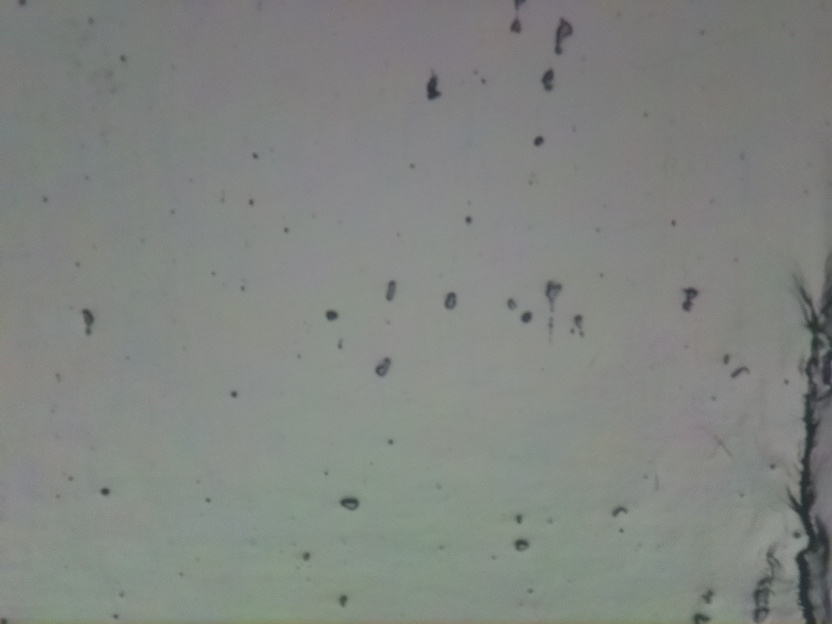crack: (785, 260, 832, 624)
